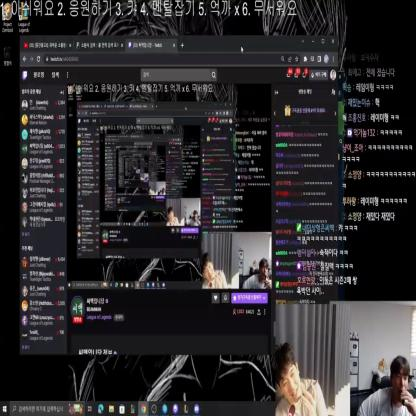streamer: (275, 343, 326, 416), (355, 354, 415, 416)
